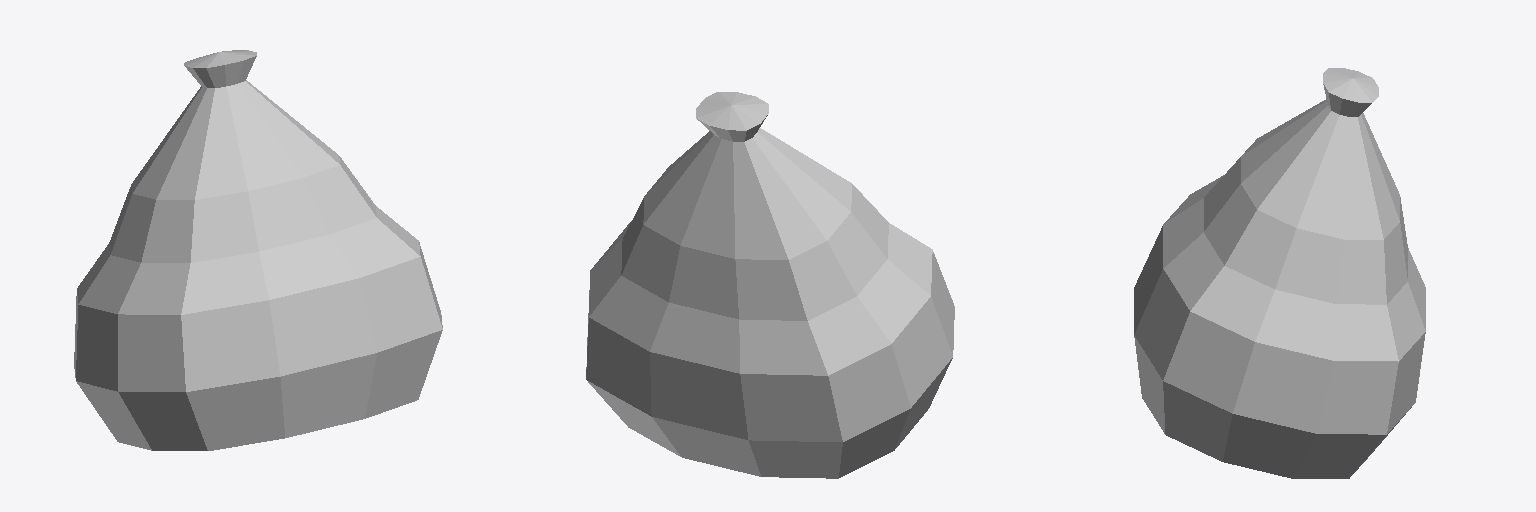
File: sampah2.obj
3 views of the same model, side by side, from view 1: azimuth 30°, elevation 25°; view 2: azimuth 150°, elevation 25°; view 3: azimuth 270°, elevation 25° (orthographic).
Visible parts, largest first — view 1: bag2; view 2: bag2; view 3: bag2.
Part boxes in pixels (x1,y1,x2,y2): bag2: (74,50,442,450); bag2: (586,92,954,478); bag2: (1134,68,1425,478).
Bounding box in the file's own units: 1.56 × 1.64 × 1.22.